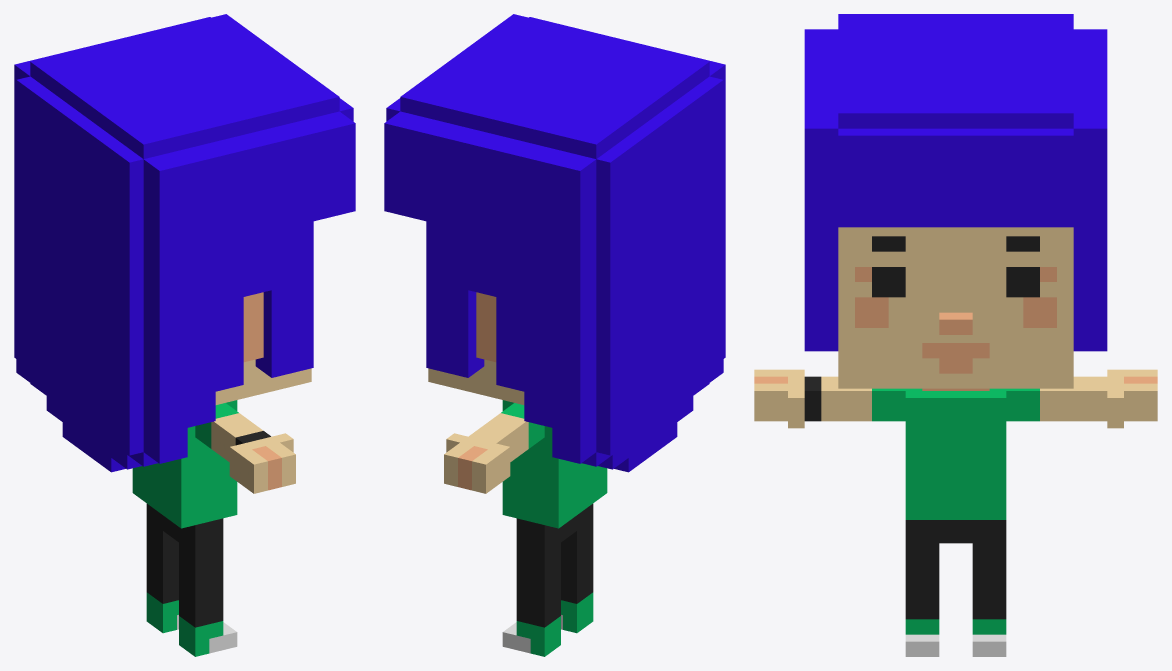
The model's file is Voxel Universe-50.obj.
The picture shows the model from 3 angles, left to right: view 1: azimuth 30°, elevation 25°; view 2: azimuth 150°, elevation 25°; view 3: azimuth 270°, elevation 25°; orthographic projection. The views are drawn at different scales.
Bounding box in the file's own units: 1.6 × 3.8 × 2.4.
1 material, 1 textured.
